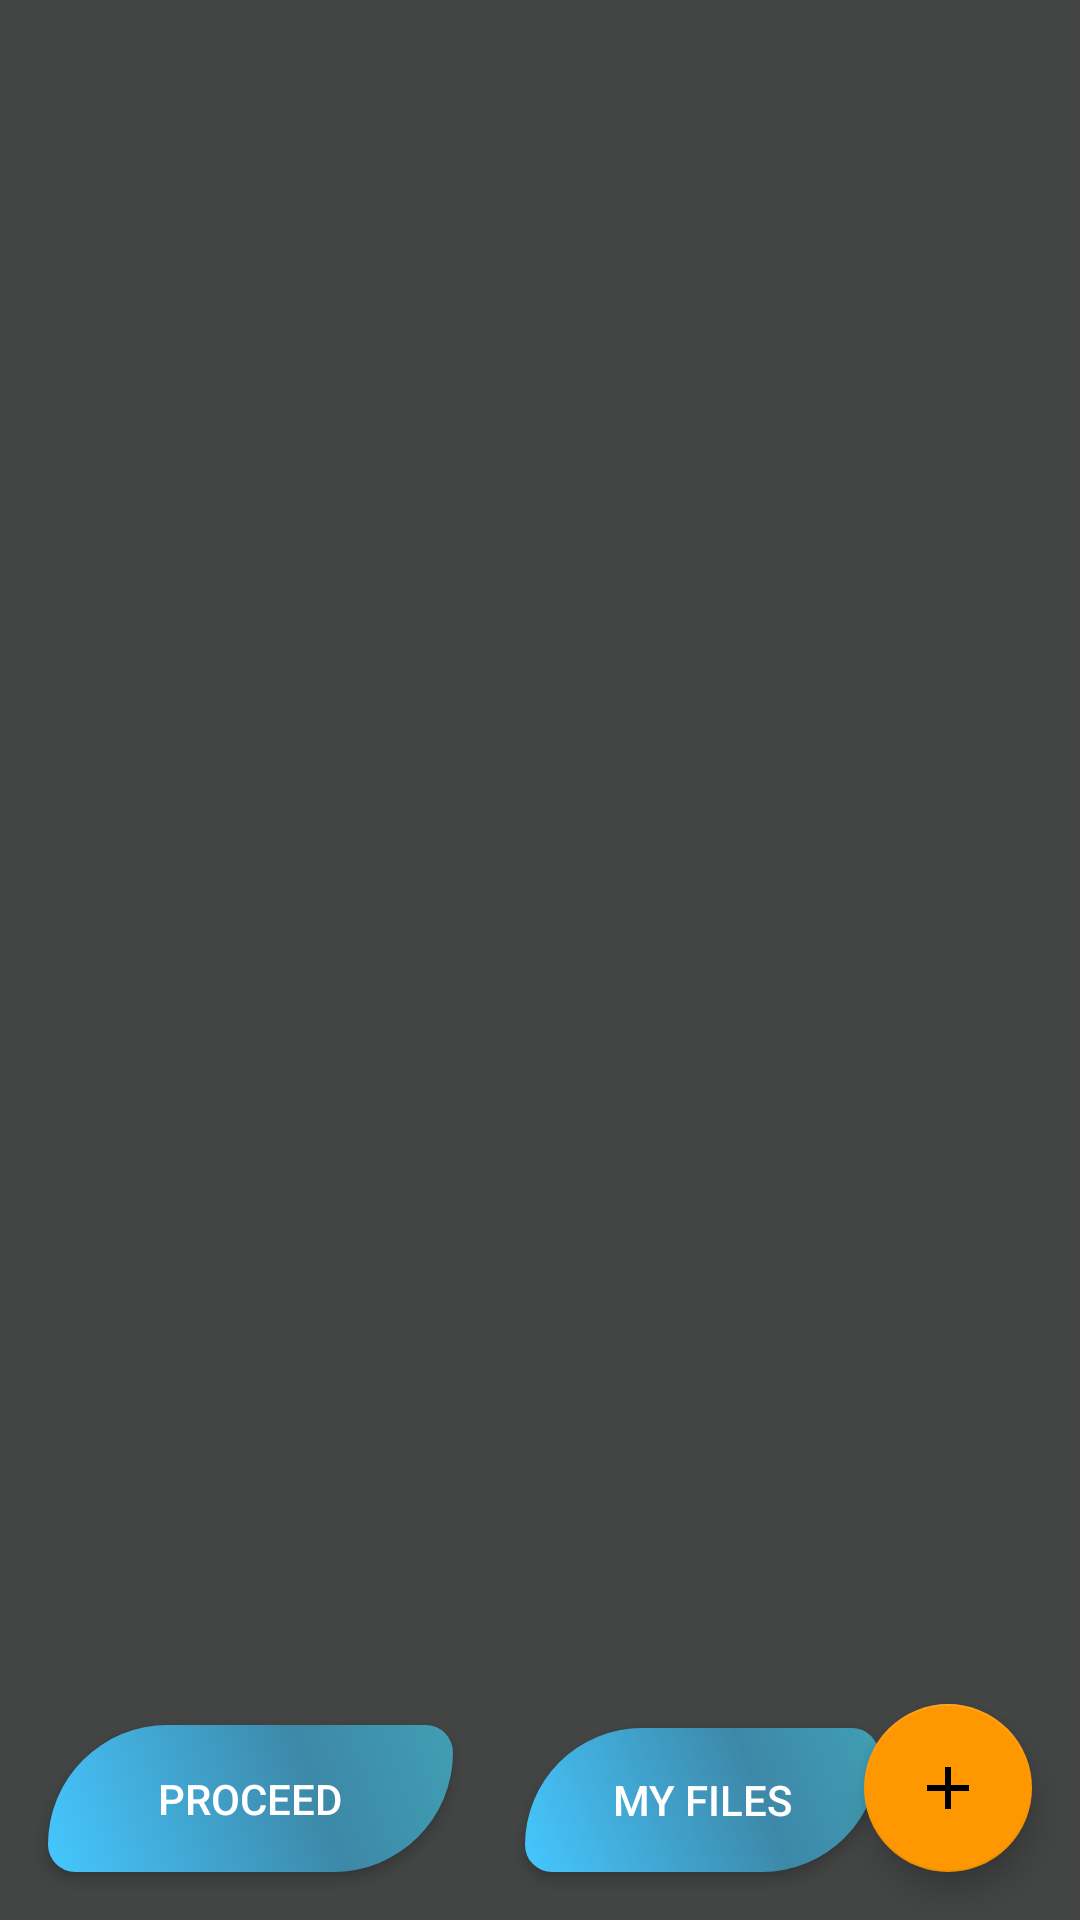

Screen size 1080*1920. Icon name, then its box in pixels as (x1, y1, x2, y2):
floating action add: (864, 1704, 1032, 1872)
